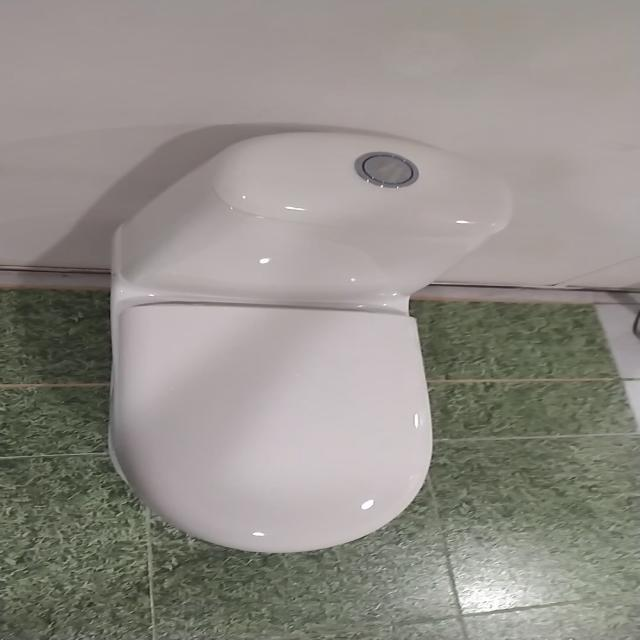toilet: (95, 125, 530, 560)
